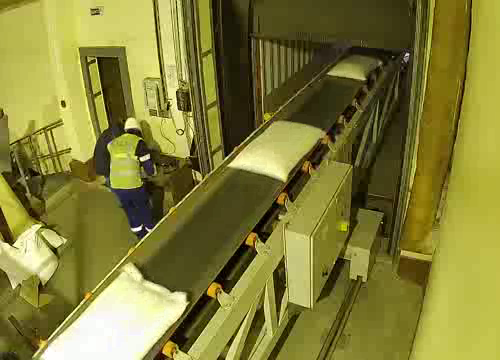bag: (28, 258, 200, 360), (220, 117, 334, 184), (320, 51, 386, 84)
